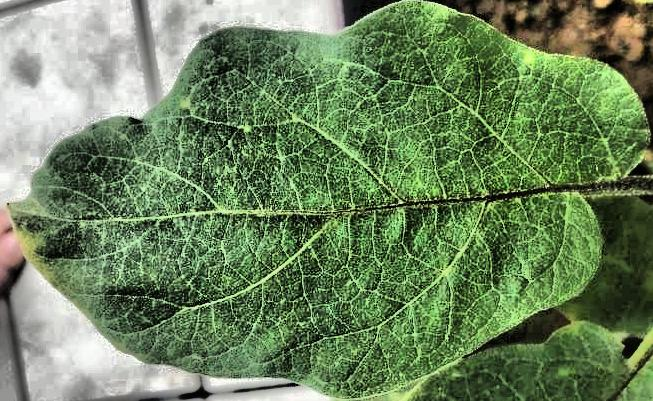HEALTHY: (0, 1, 653, 401)
